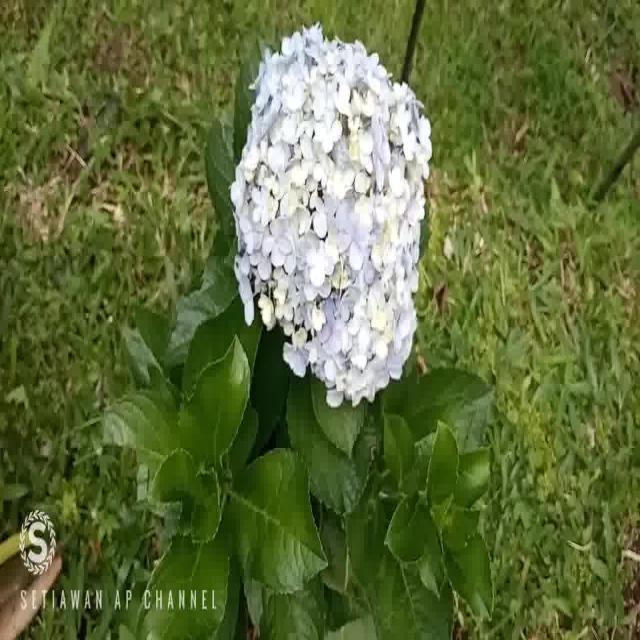Flower: (233, 23, 431, 408)
